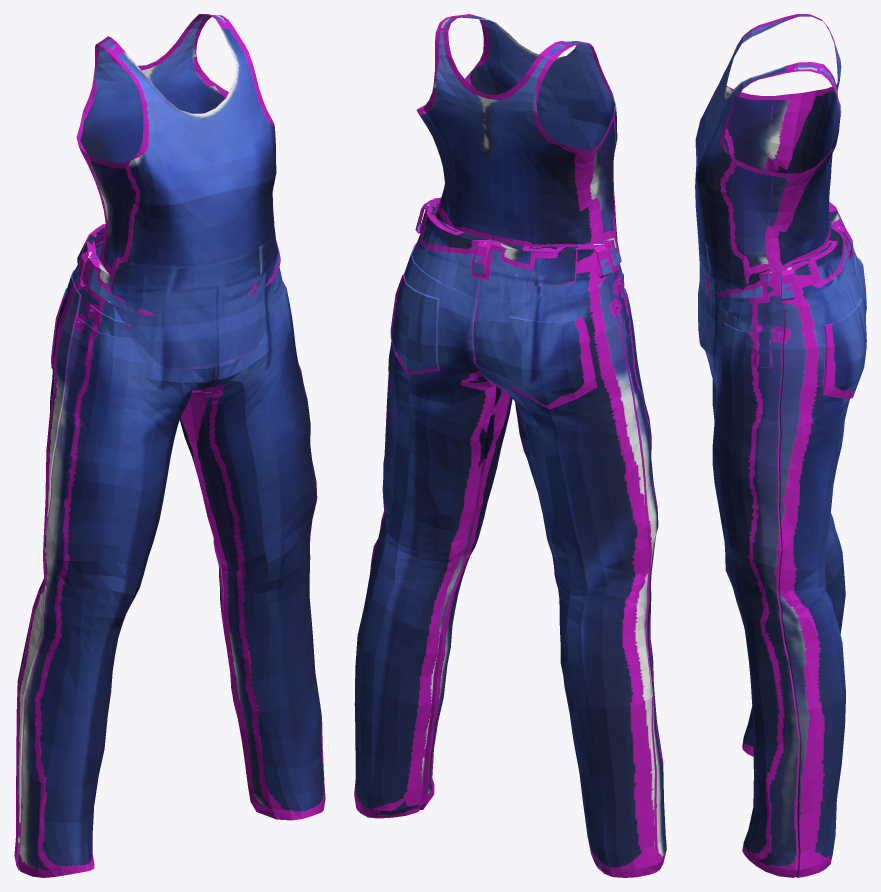
3 views of the same model, side by side, from view 1: azimuth 30°, elevation 25°; view 2: azimuth 150°, elevation 25°; view 3: azimuth 270°, elevation 25° (orthographic). The views are drawn at different scales.
Bounding box in the file's own units: 0.385 × 0.9799 × 0.1984.
1 material, 1 textured.
